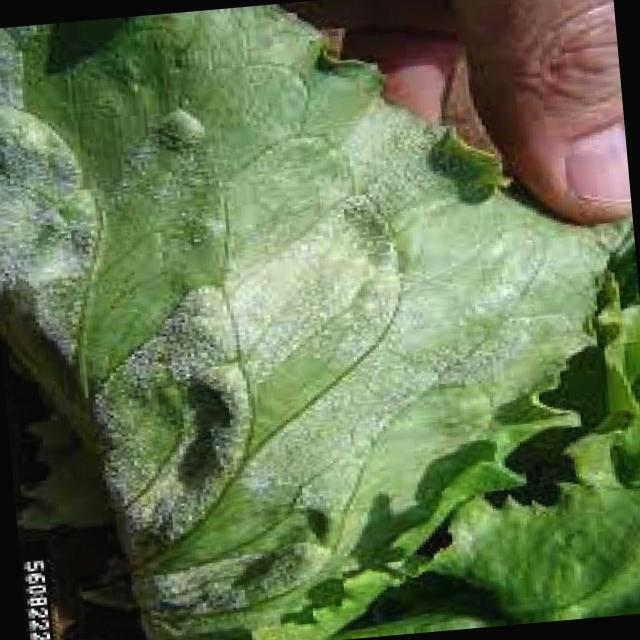Downy_mildew: (84, 124, 452, 622)
